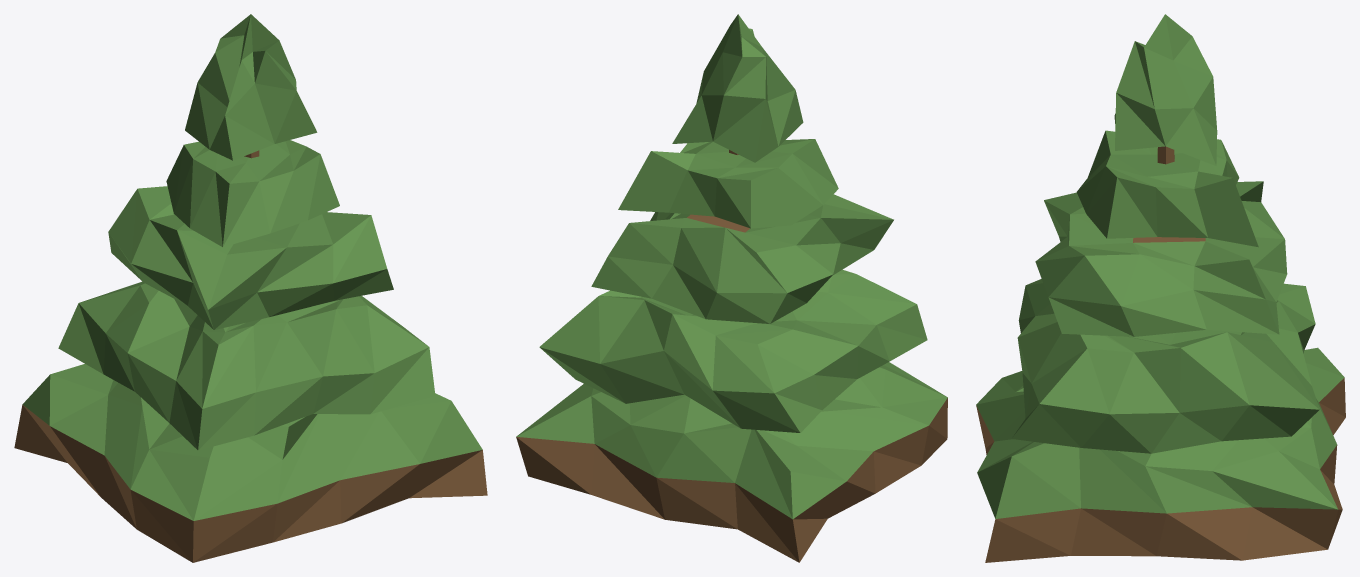
The model's file is tree3d-094.glb.
3 views of the same model, side by side, from view 1: azimuth 30°, elevation 25°; view 2: azimuth 150°, elevation 25°; view 3: azimuth 270°, elevation 25° (orthographic). The views are drawn at different scales.
Parts seen in each view (by area): view 1: tree3d-094; view 2: tree3d-094; view 3: tree3d-094.
Part boxes in pixels (x1,y1,x2,y2): tree3d-094: (14, 14, 487, 562); tree3d-094: (516, 14, 947, 562); tree3d-094: (976, 14, 1345, 562).
Bounding box in the file's own units: 0.6357 × 1 × 0.6361.
